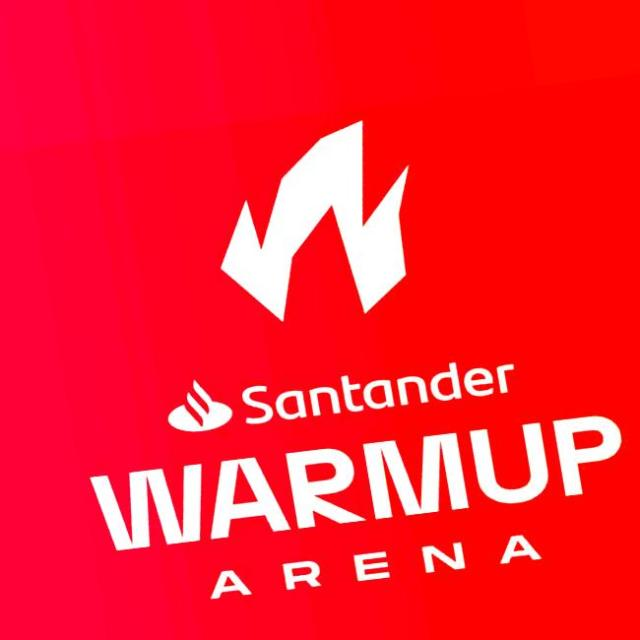santander: (168, 381, 233, 432)
